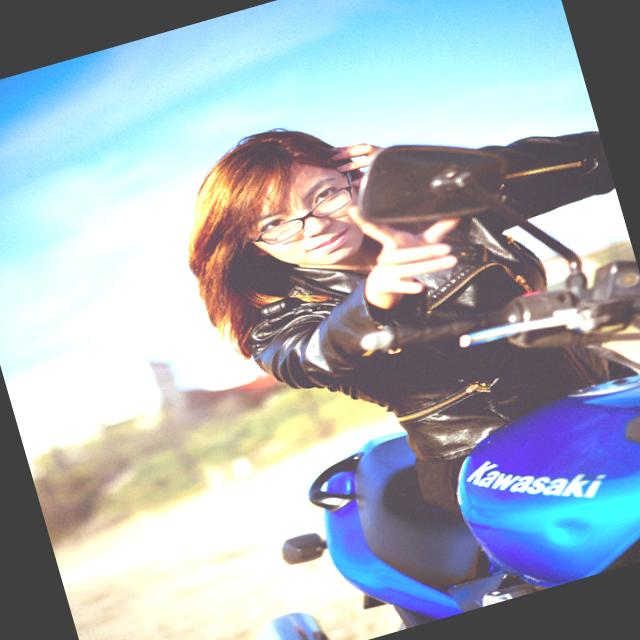Vehicle: (129, 94, 640, 640)
